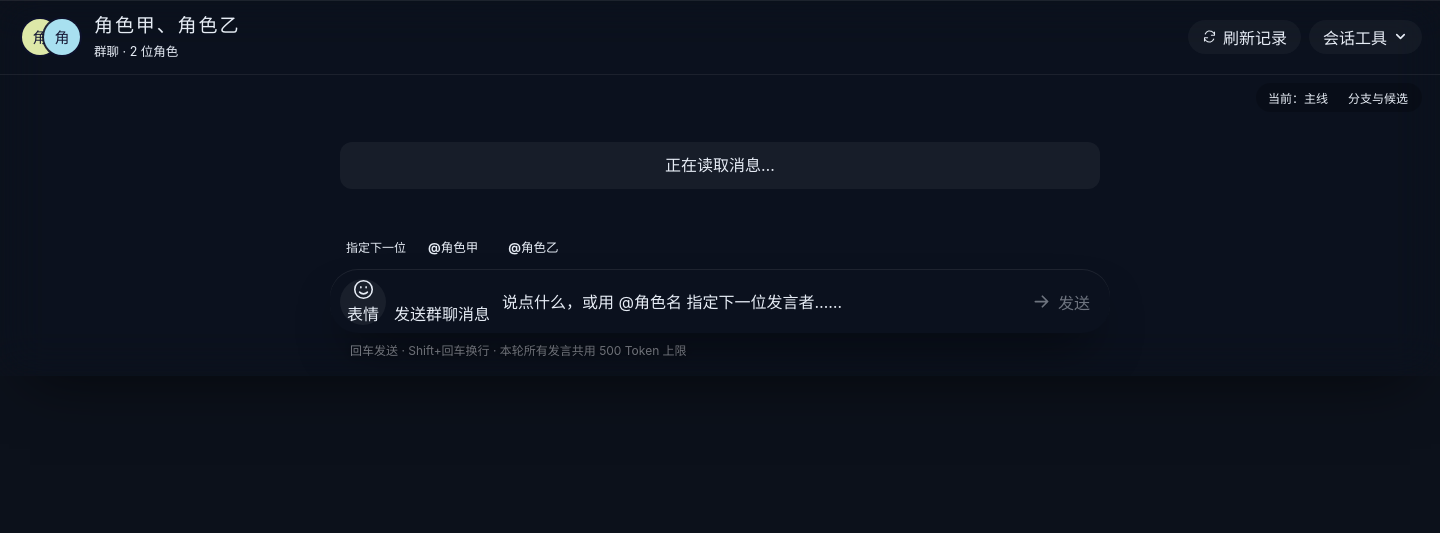
reports group budget denial without replaying the saved turn
Type "你好" into the text box labelled "发送群聊消息" at (754, 301), box [498,277,1011,325]
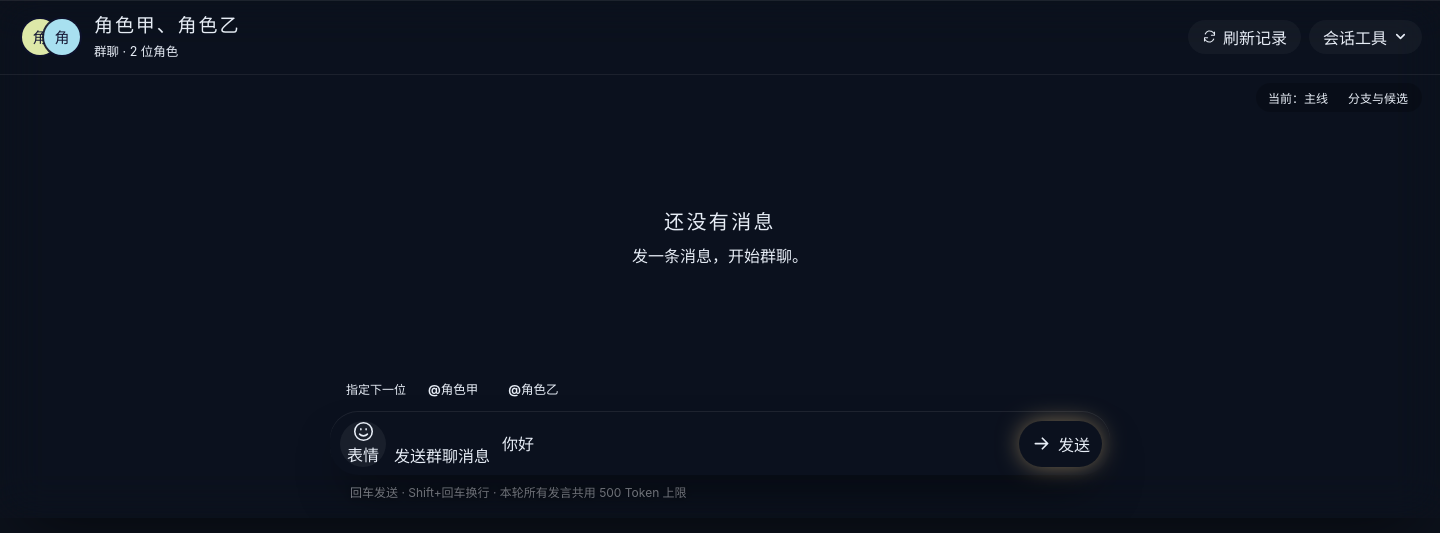
Click the button "发送" at (1060, 444), box [1019,421,1102,467]
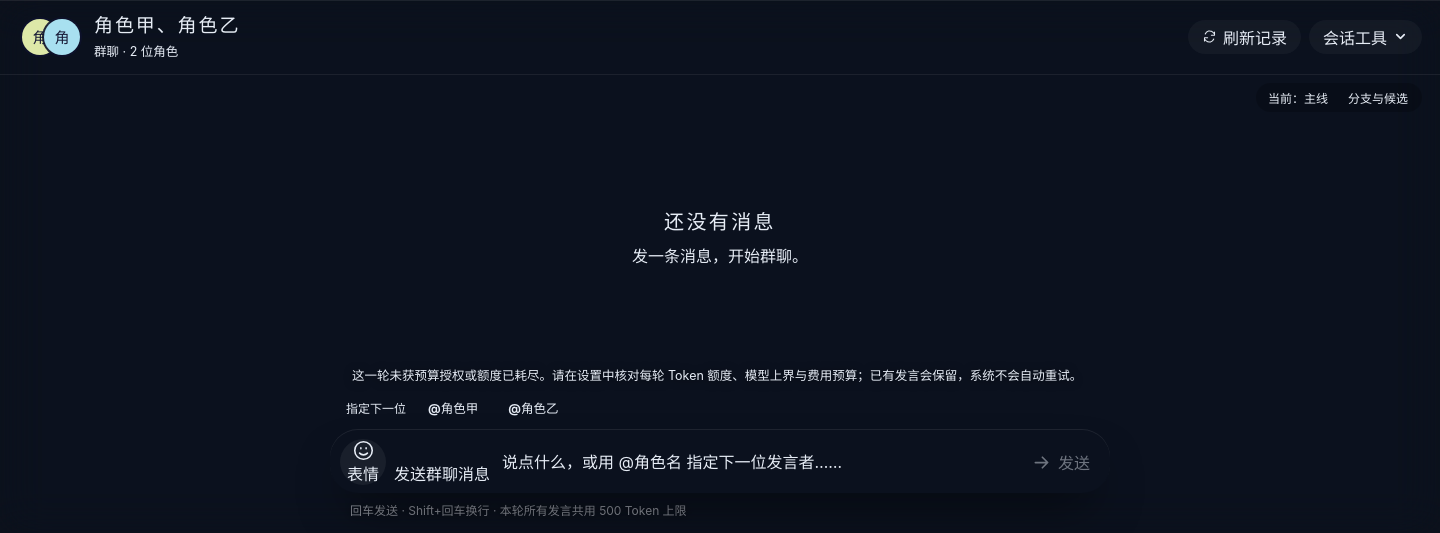
Result: the text "这一轮未获预算授权或额度已耗尽。请在设置中核对每轮 Token 额度、模型上界与费用预算；已有发言会保留，系统不会自动重试。" is shown at [330,367,1110,386]
